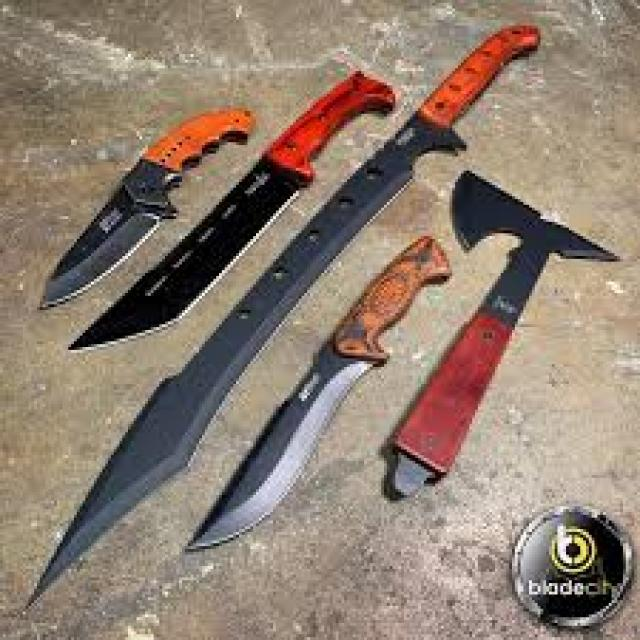knives: (8, 78, 233, 302)
